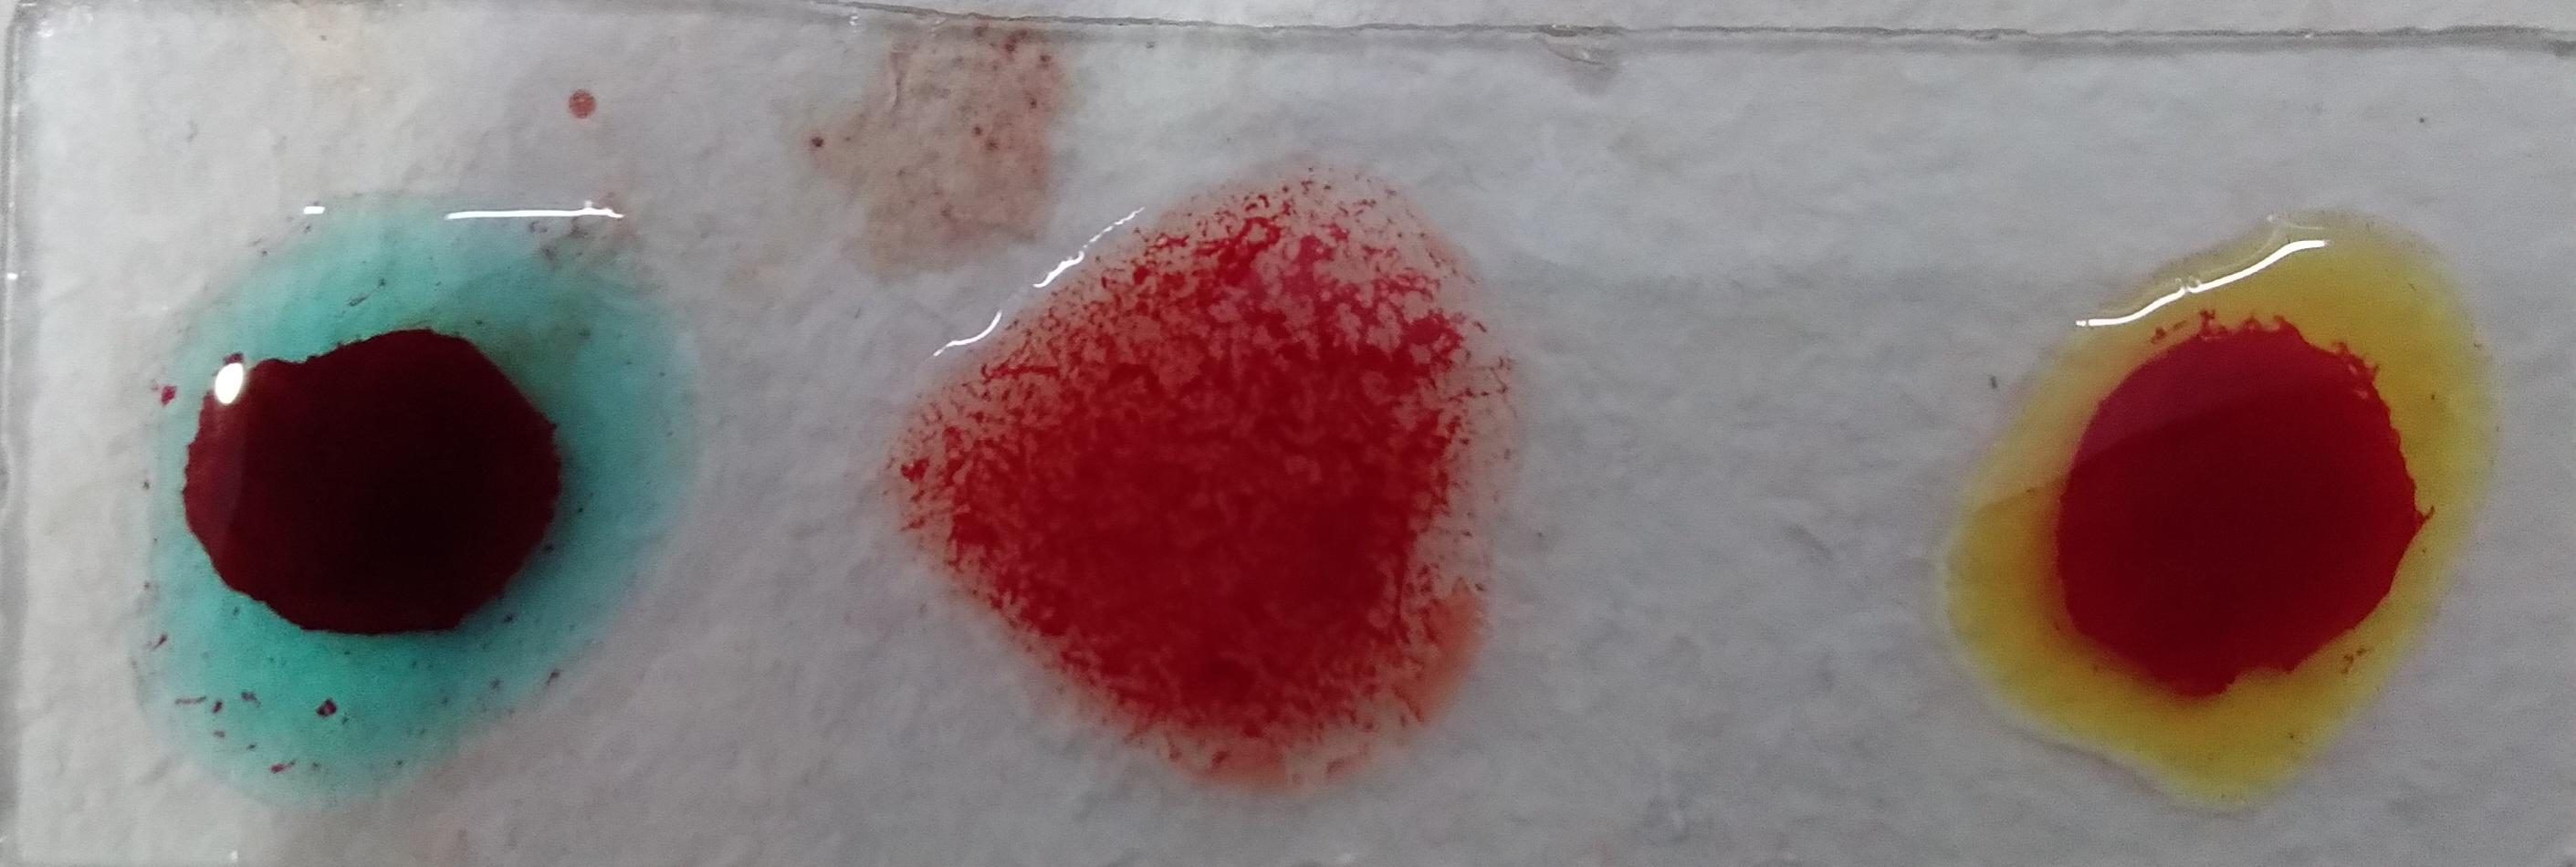A: (1924, 57, 2441, 665)
B: (108, 71, 634, 617)
D: (1109, 57, 1661, 708)
